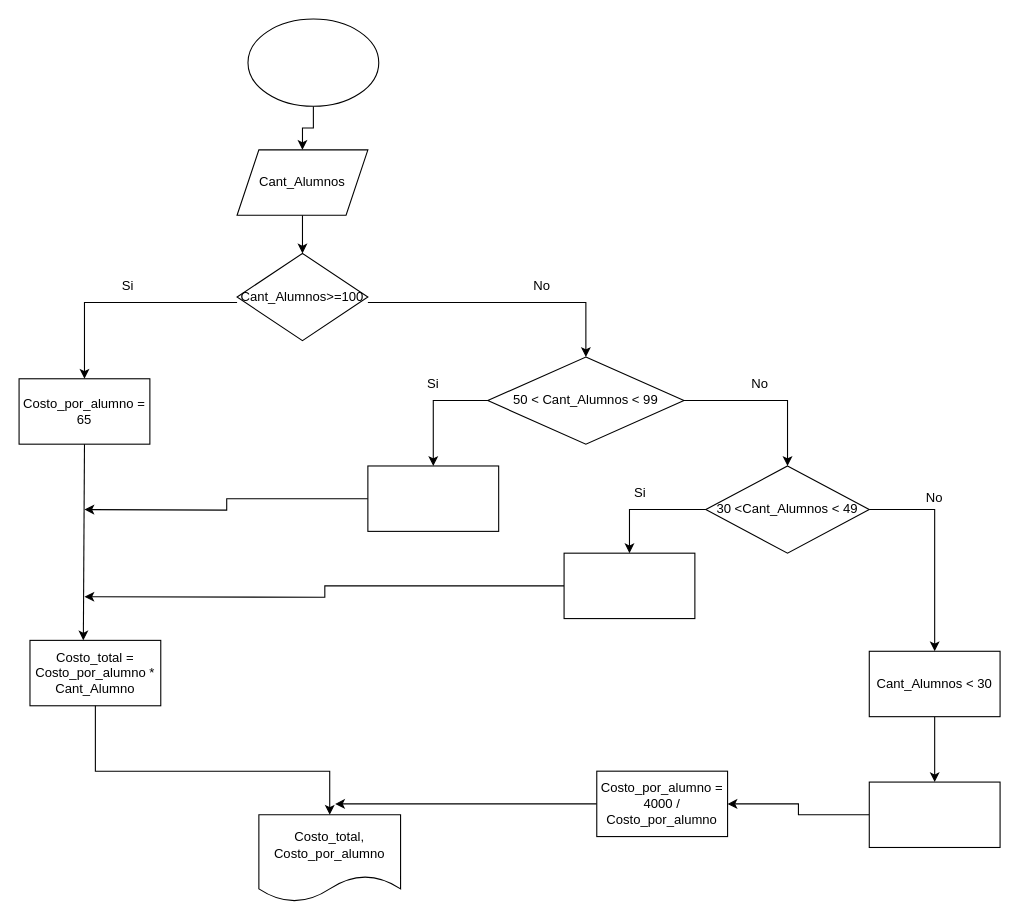
Some shapes in this 1019 by 921 pixel diagram are drawn without their labels. Each missing label, with the centre of its shape:
"Costo-por-alumno = 95" goes at (x=629, y=585).
"Costo_de_bus = 4000" goes at (x=934, y=814).
"Costo_por_alumno = 70" goes at (x=433, y=498).
"inicio" goes at (x=313, y=62).
